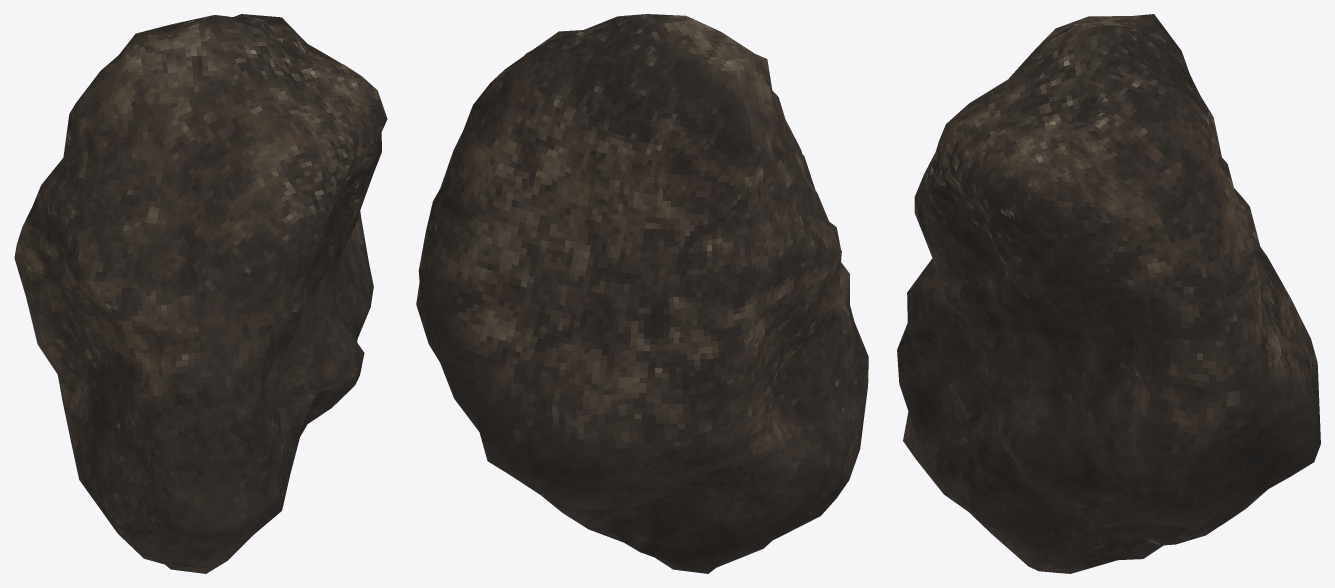
File: SM_RP2_Rock_4m_3.glb
The picture shows the model from 3 angles, left to right: view 1: azimuth 30°, elevation 25°; view 2: azimuth 150°, elevation 25°; view 3: azimuth 270°, elevation 25°; orthographic projection. The views are drawn at different scales.
Visible parts, largest first — view 1: SM_RP2_Rock_4m_3; view 2: SM_RP2_Rock_4m_3; view 3: SM_RP2_Rock_4m_3.
Part boxes in pixels (x1,y1,x2,y2): SM_RP2_Rock_4m_3: [14, 14, 387, 573]; SM_RP2_Rock_4m_3: [416, 14, 868, 573]; SM_RP2_Rock_4m_3: [897, 14, 1320, 573].
Size of the model in its own units: 4.59 by 6.94 by 4.71.
1 material, 1 textured.
